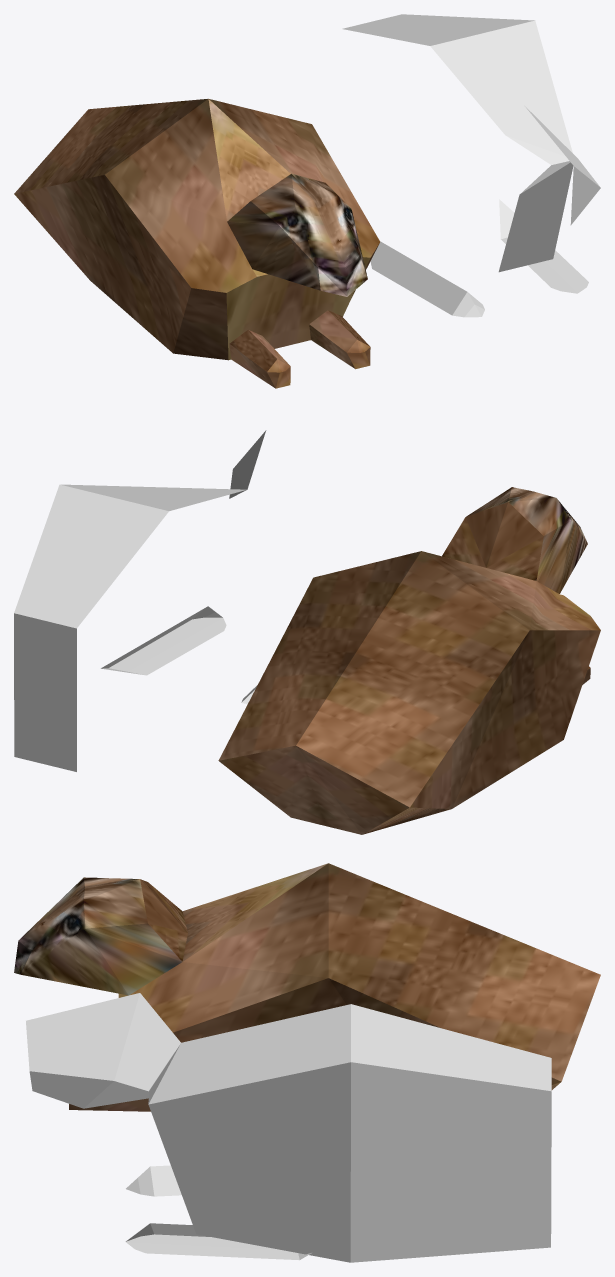
File: flopp.glb
The picture shows the model from 3 angles, top to bottom: view 1: azimuth 30°, elevation 25°; view 2: azimuth 150°, elevation 25°; view 3: azimuth 270°, elevation 25°; orthographic projection. The views are drawn at different scales.
Parts seen in each view (by area): view 1: Cube.003, Cube; view 2: Cube.003, Cube; view 3: Cube, Cube.003.
Boxes of the visible parts, bbox=[...] form: Cube.003: bbox=[14, 98, 379, 388]; Cube: bbox=[342, 14, 600, 317]; Cube.003: bbox=[218, 487, 600, 834]; Cube: bbox=[14, 430, 266, 771]; Cube: bbox=[26, 993, 551, 1262]; Cube.003: bbox=[14, 863, 600, 1111].
Size of the model in its own units: 2.54 by 1.09 by 2.59.
Materials: 1 (1 with a texture image).
